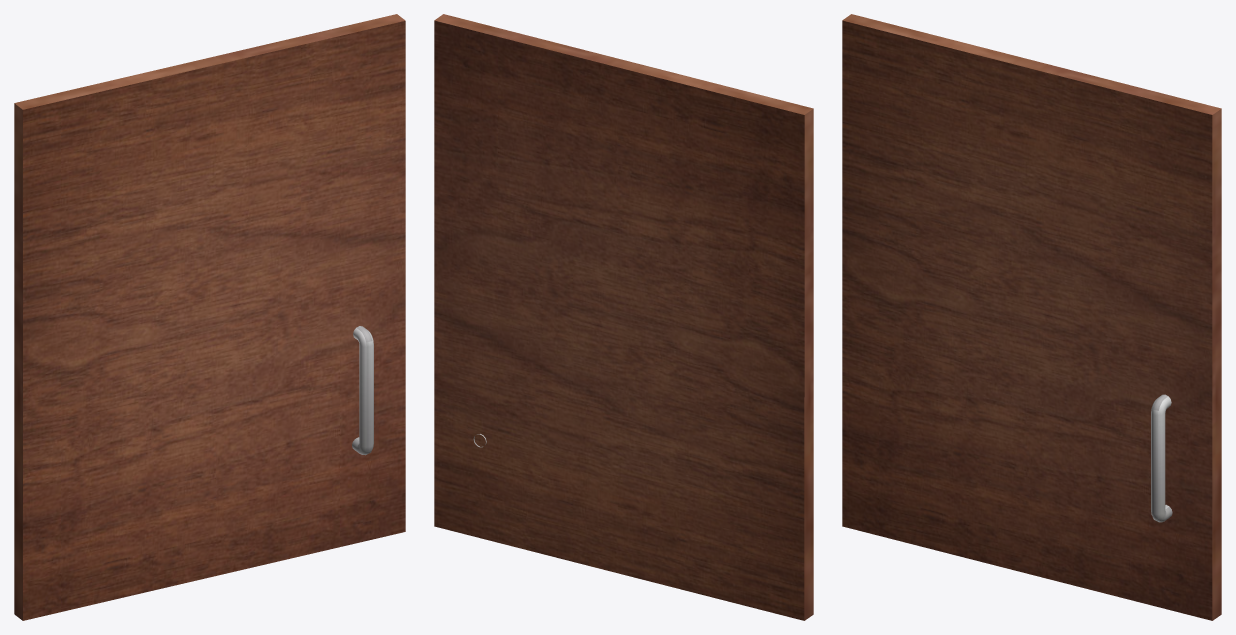
File: puertaGabinete.obj
3 views of the same model, side by side, from view 1: azimuth 30°, elevation 25°; view 2: azimuth 150°, elevation 25°; view 3: azimuth 330°, elevation 25° (orthographic).
Visible parts, largest first — view 1: puertaGabinete1:polySurface3; view 2: puertaGabinete1:polySurface3; view 3: puertaGabinete1:polySurface3.
Boxes of the visible parts, <box> form: puertaGabinete1:polySurface3: <box>14,14,405,620</box>; puertaGabinete1:polySurface3: <box>434,14,813,620</box>; puertaGabinete1:polySurface3: <box>842,14,1221,620</box>.
Size of the model in its own units: 0.7934 by 1.02 by 0.0903.
3 materials, 3 textured.
